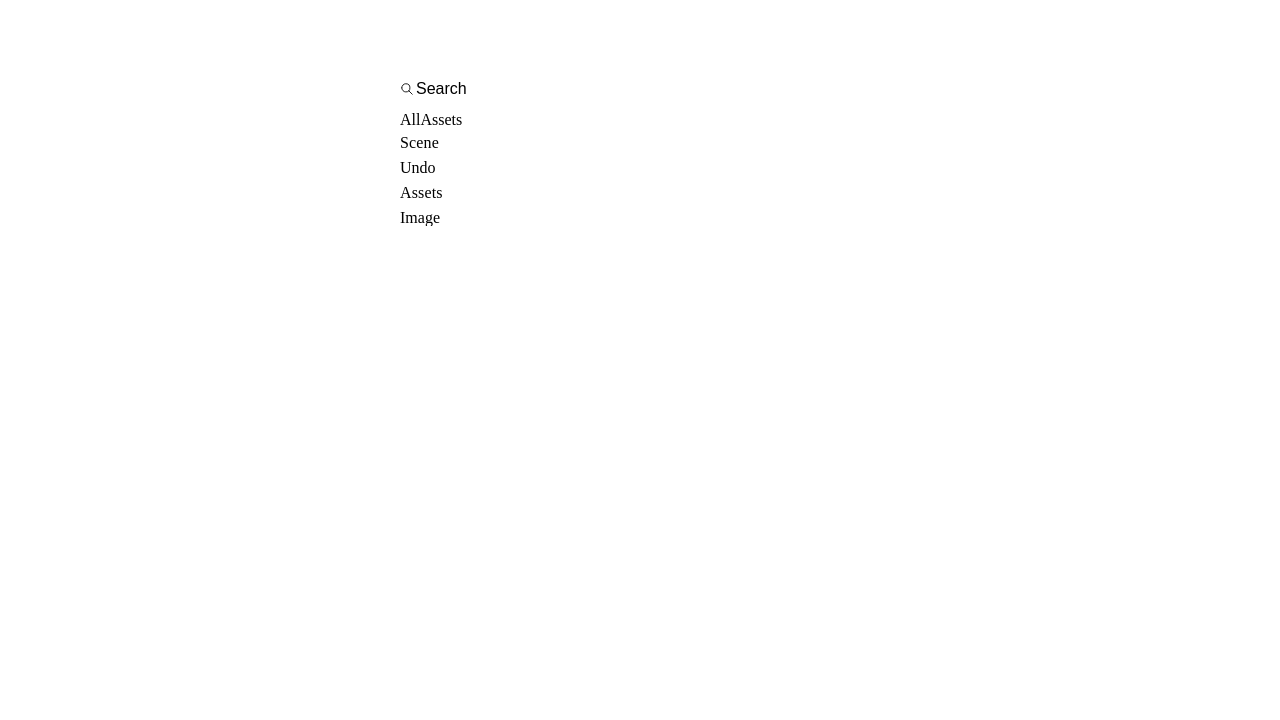
Test case: CommandPaletteRenderer › filters items by the active tab
Expected: the tab "All" is shown, [400,106,420,134]
Expected: the text "Undo" is shown, [400,159,436,176]
Click the tab "Assets" at (441, 120), box [420,106,462,134]
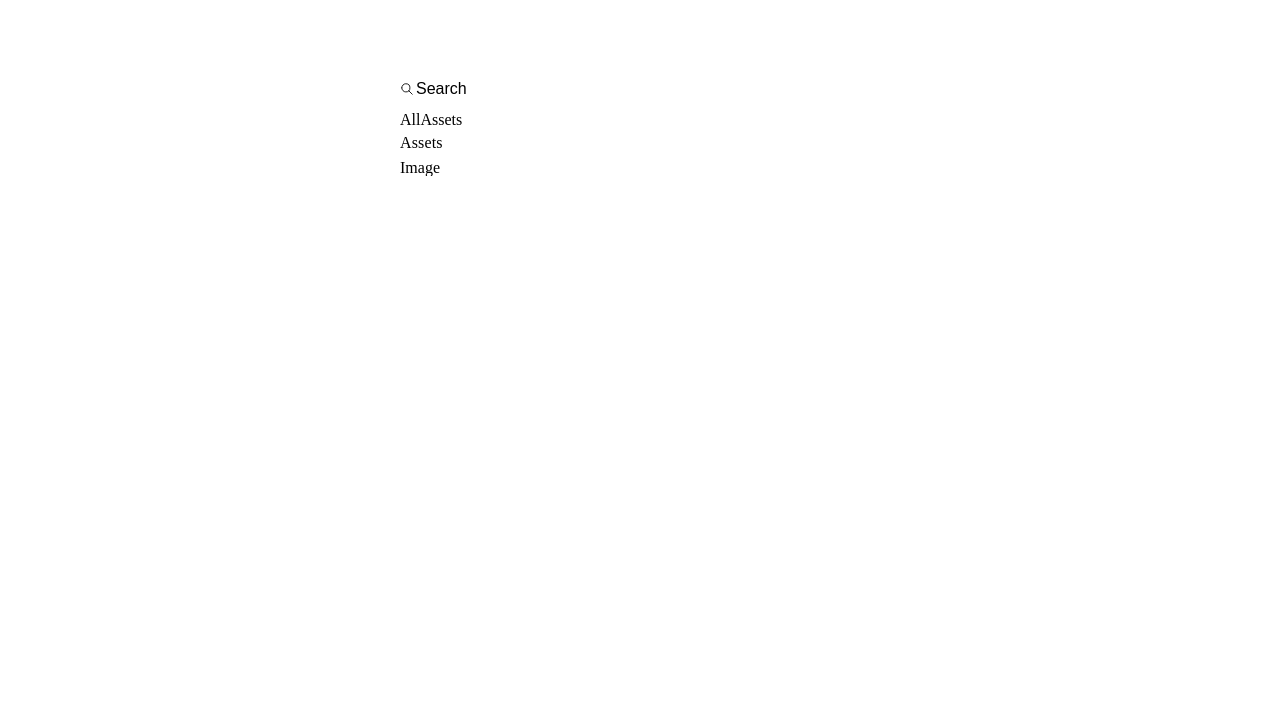
Expected: the text "Image" is shown, [400,159,440,176]
Now the option "Undo" is gone
